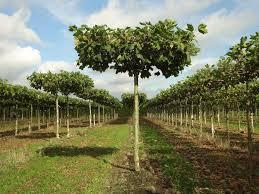tree: (62, 19, 215, 171), (23, 69, 94, 141)
